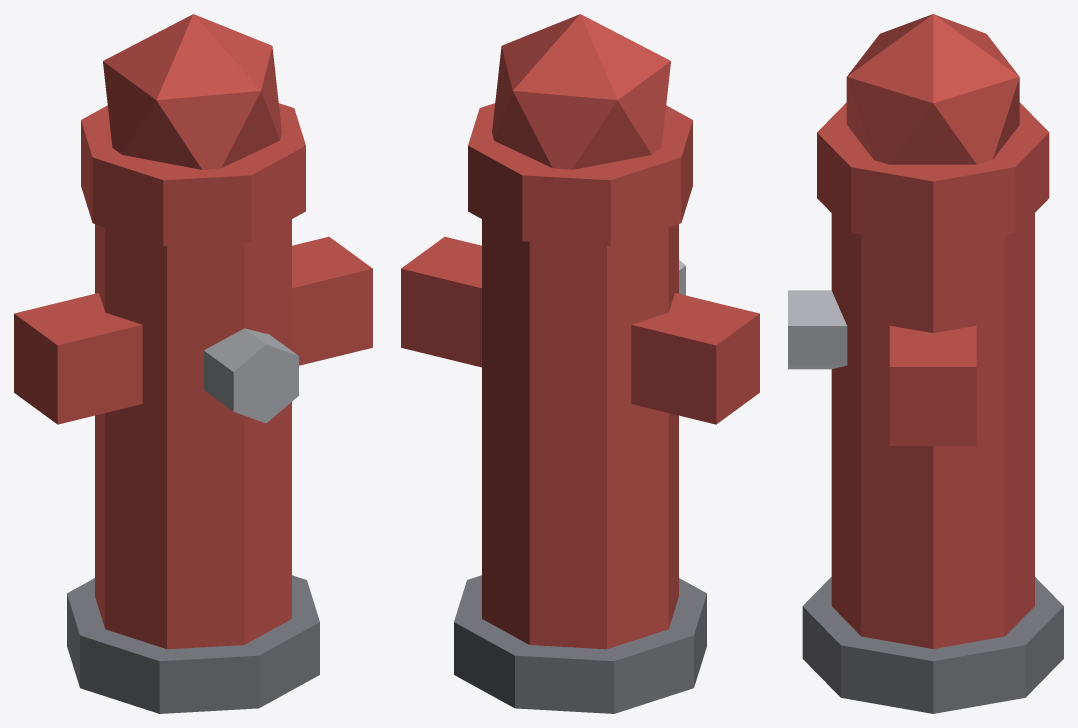
File: Yangin_Musluk.glb
3 views of the same model, side by side, from view 1: azimuth 30°, elevation 25°; view 2: azimuth 150°, elevation 25°; view 3: azimuth 270°, elevation 25° (orthographic).
Parts seen in each view (by area): view 1: Yangin_Musluk; view 2: Yangin_Musluk; view 3: Yangin_Musluk.
Boxes of the visible parts, x1,y1,x2,y2 form: Yangin_Musluk: (14, 14, 372, 713); Yangin_Musluk: (401, 14, 759, 713); Yangin_Musluk: (788, 14, 1063, 713).
Bounding box in the file's own units: 0.5 × 0.98 × 0.38.
